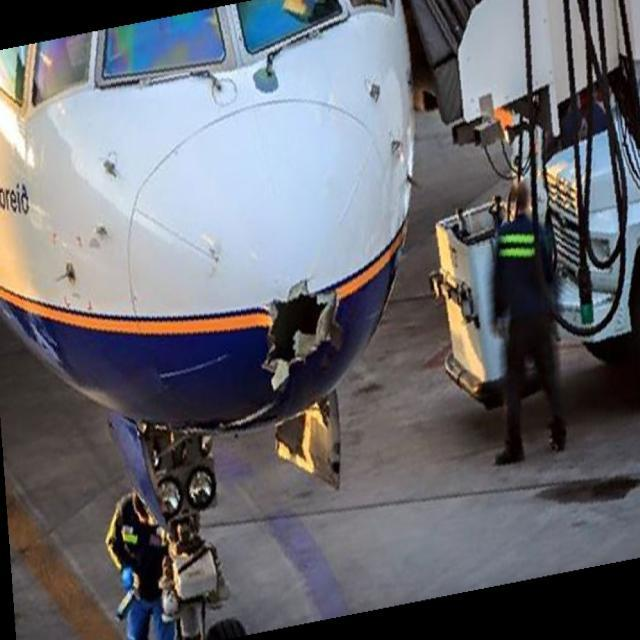crack: (258, 270, 346, 391)
